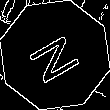N_NE: (23, 25, 87, 85)
